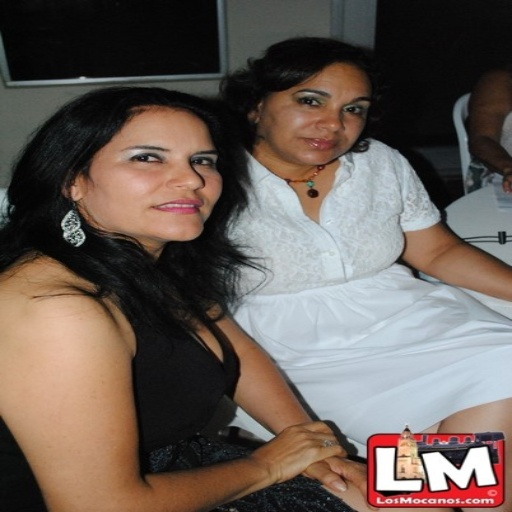hand: (227, 415, 359, 494), (296, 455, 402, 510), (500, 164, 509, 194)
